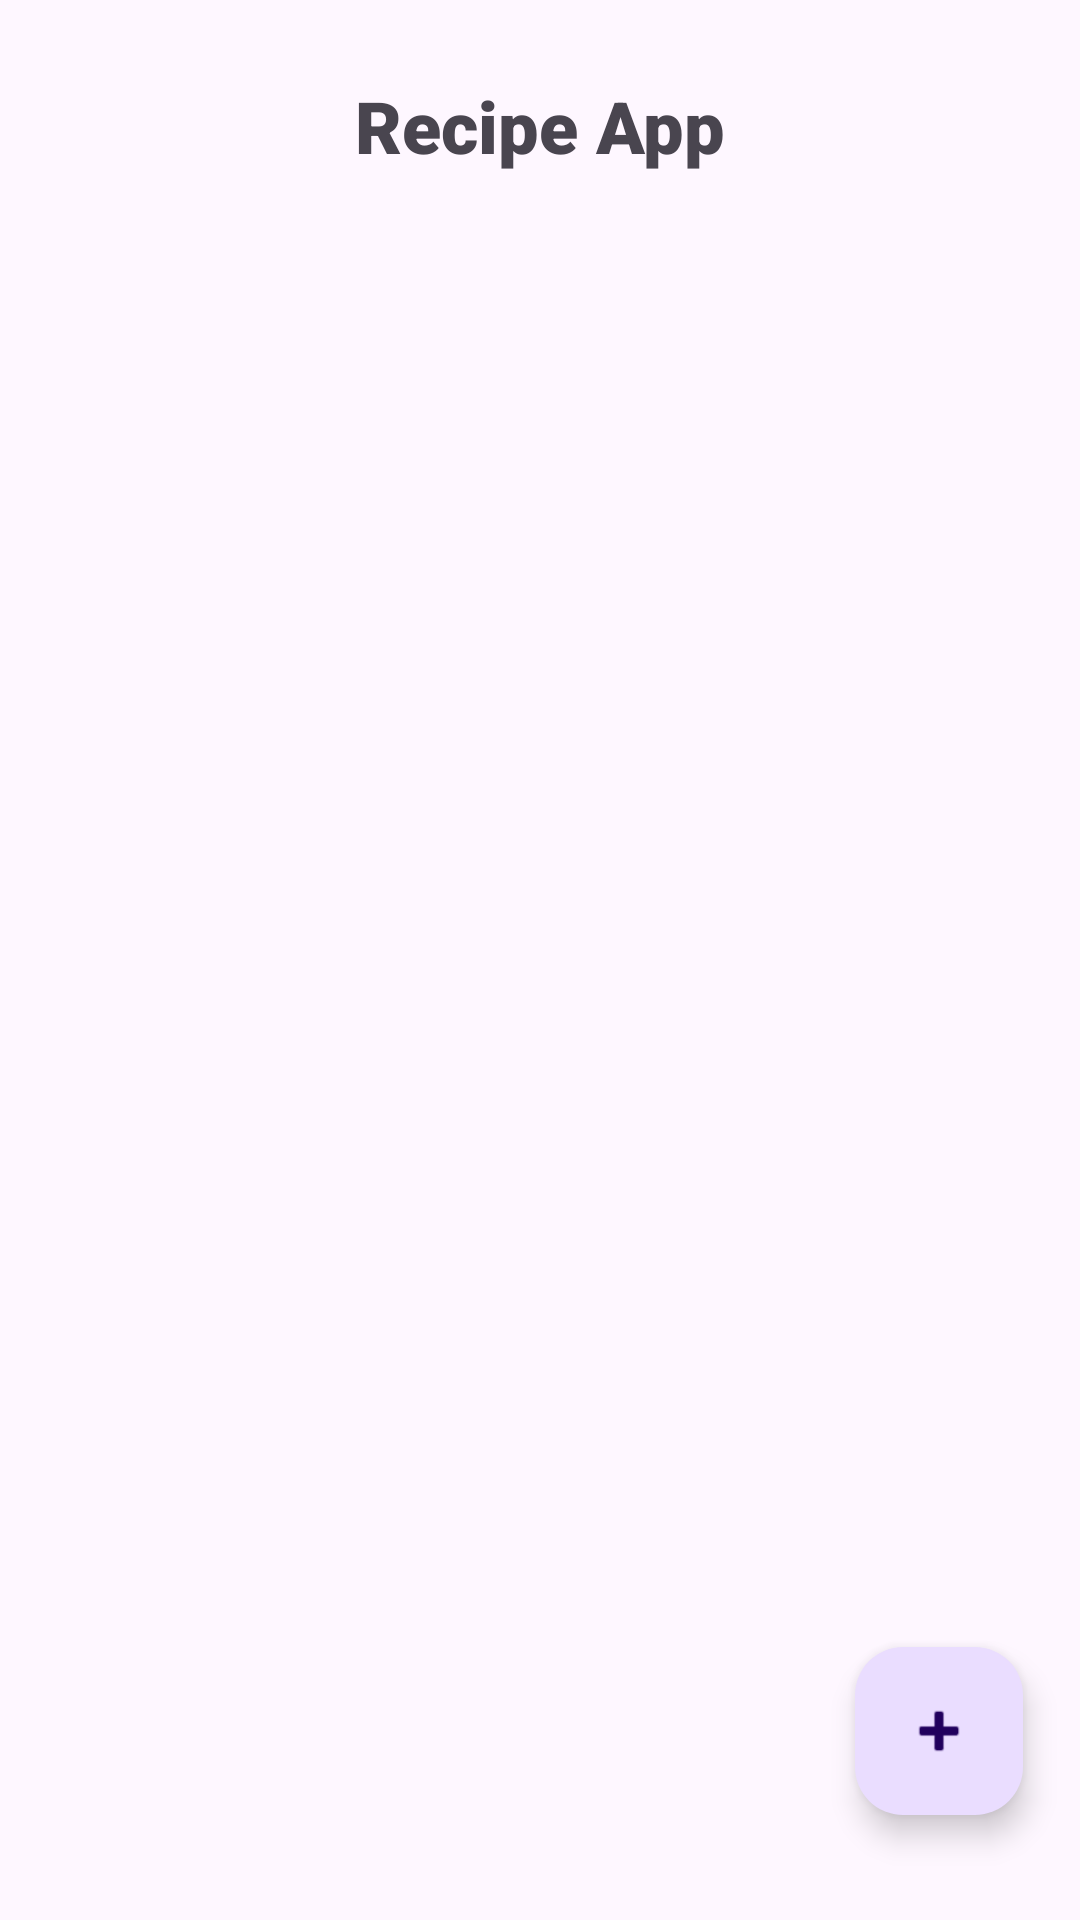

Screen size 1080 x 1920. Icon name, then its center in pixels as point (x, y):
add: point (939, 1731)
